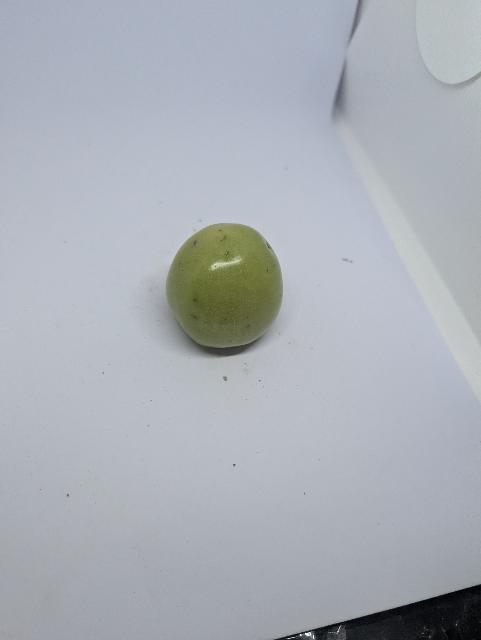green: (163, 219, 286, 351)
